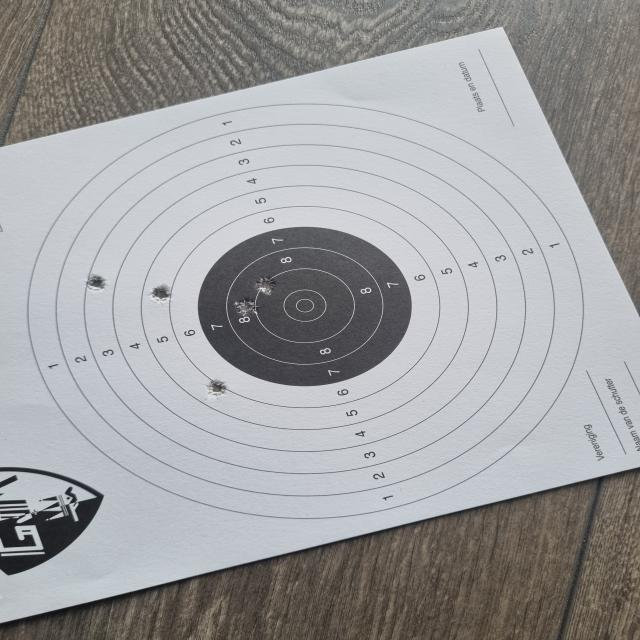10: (233, 298, 260, 316), (256, 277, 276, 295)
4: (84, 274, 108, 292)
7: (148, 284, 174, 304), (206, 379, 226, 396)
Black Contour: (200, 226, 412, 388)
Target: (30, 101, 588, 522)
